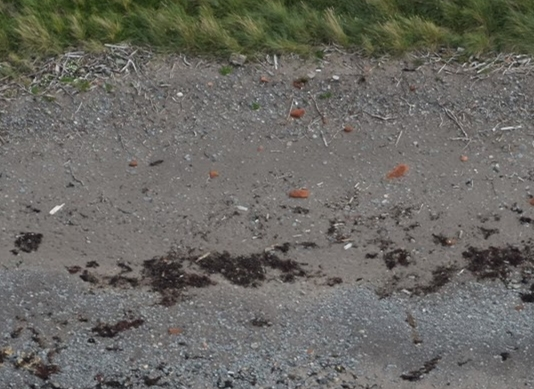scattered_barrel: (227, 68, 418, 219)
white_in_green: (34, 184, 80, 230)
